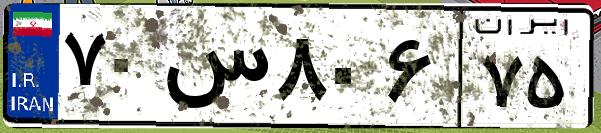0: (330, 28, 385, 110), (110, 28, 158, 98)
5: (525, 38, 570, 115)
6: (385, 28, 445, 110)
7: (57, 26, 110, 100), (475, 38, 525, 113)
8: (270, 28, 330, 110)
س: (158, 20, 270, 120)
